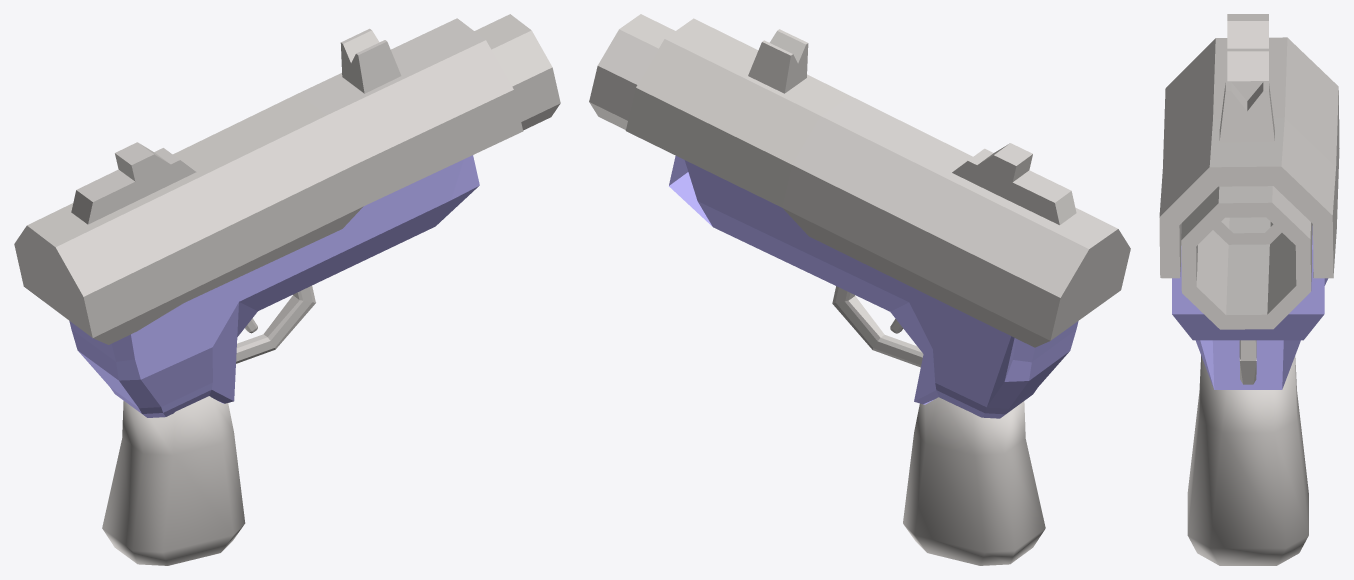
Rendered from ND_pistol.fbx.
The picture shows the model from 3 angles, left to right: view 1: azimuth 30°, elevation 25°; view 2: azimuth 150°, elevation 25°; view 3: azimuth 270°, elevation 25°; orthographic projection. The views are drawn at different scales.
Parts seen in each view (by area): view 1: Cylinder; view 2: Cylinder; view 3: Cylinder.
Part boxes in pixels (box(x1,y1,x2,y2)): Cylinder: box(14, 14, 560, 565); Cylinder: box(589, 14, 1130, 565); Cylinder: box(1159, 14, 1339, 565).
Size of the model in its own units: 3.36 by 13.31 by 11.75.
